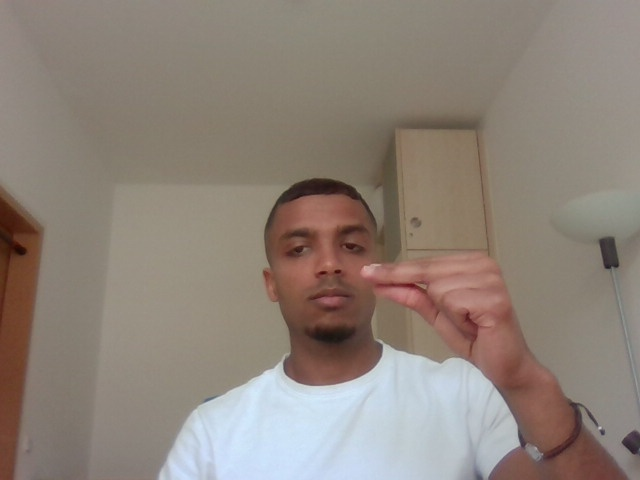no: (359, 238, 563, 392)
